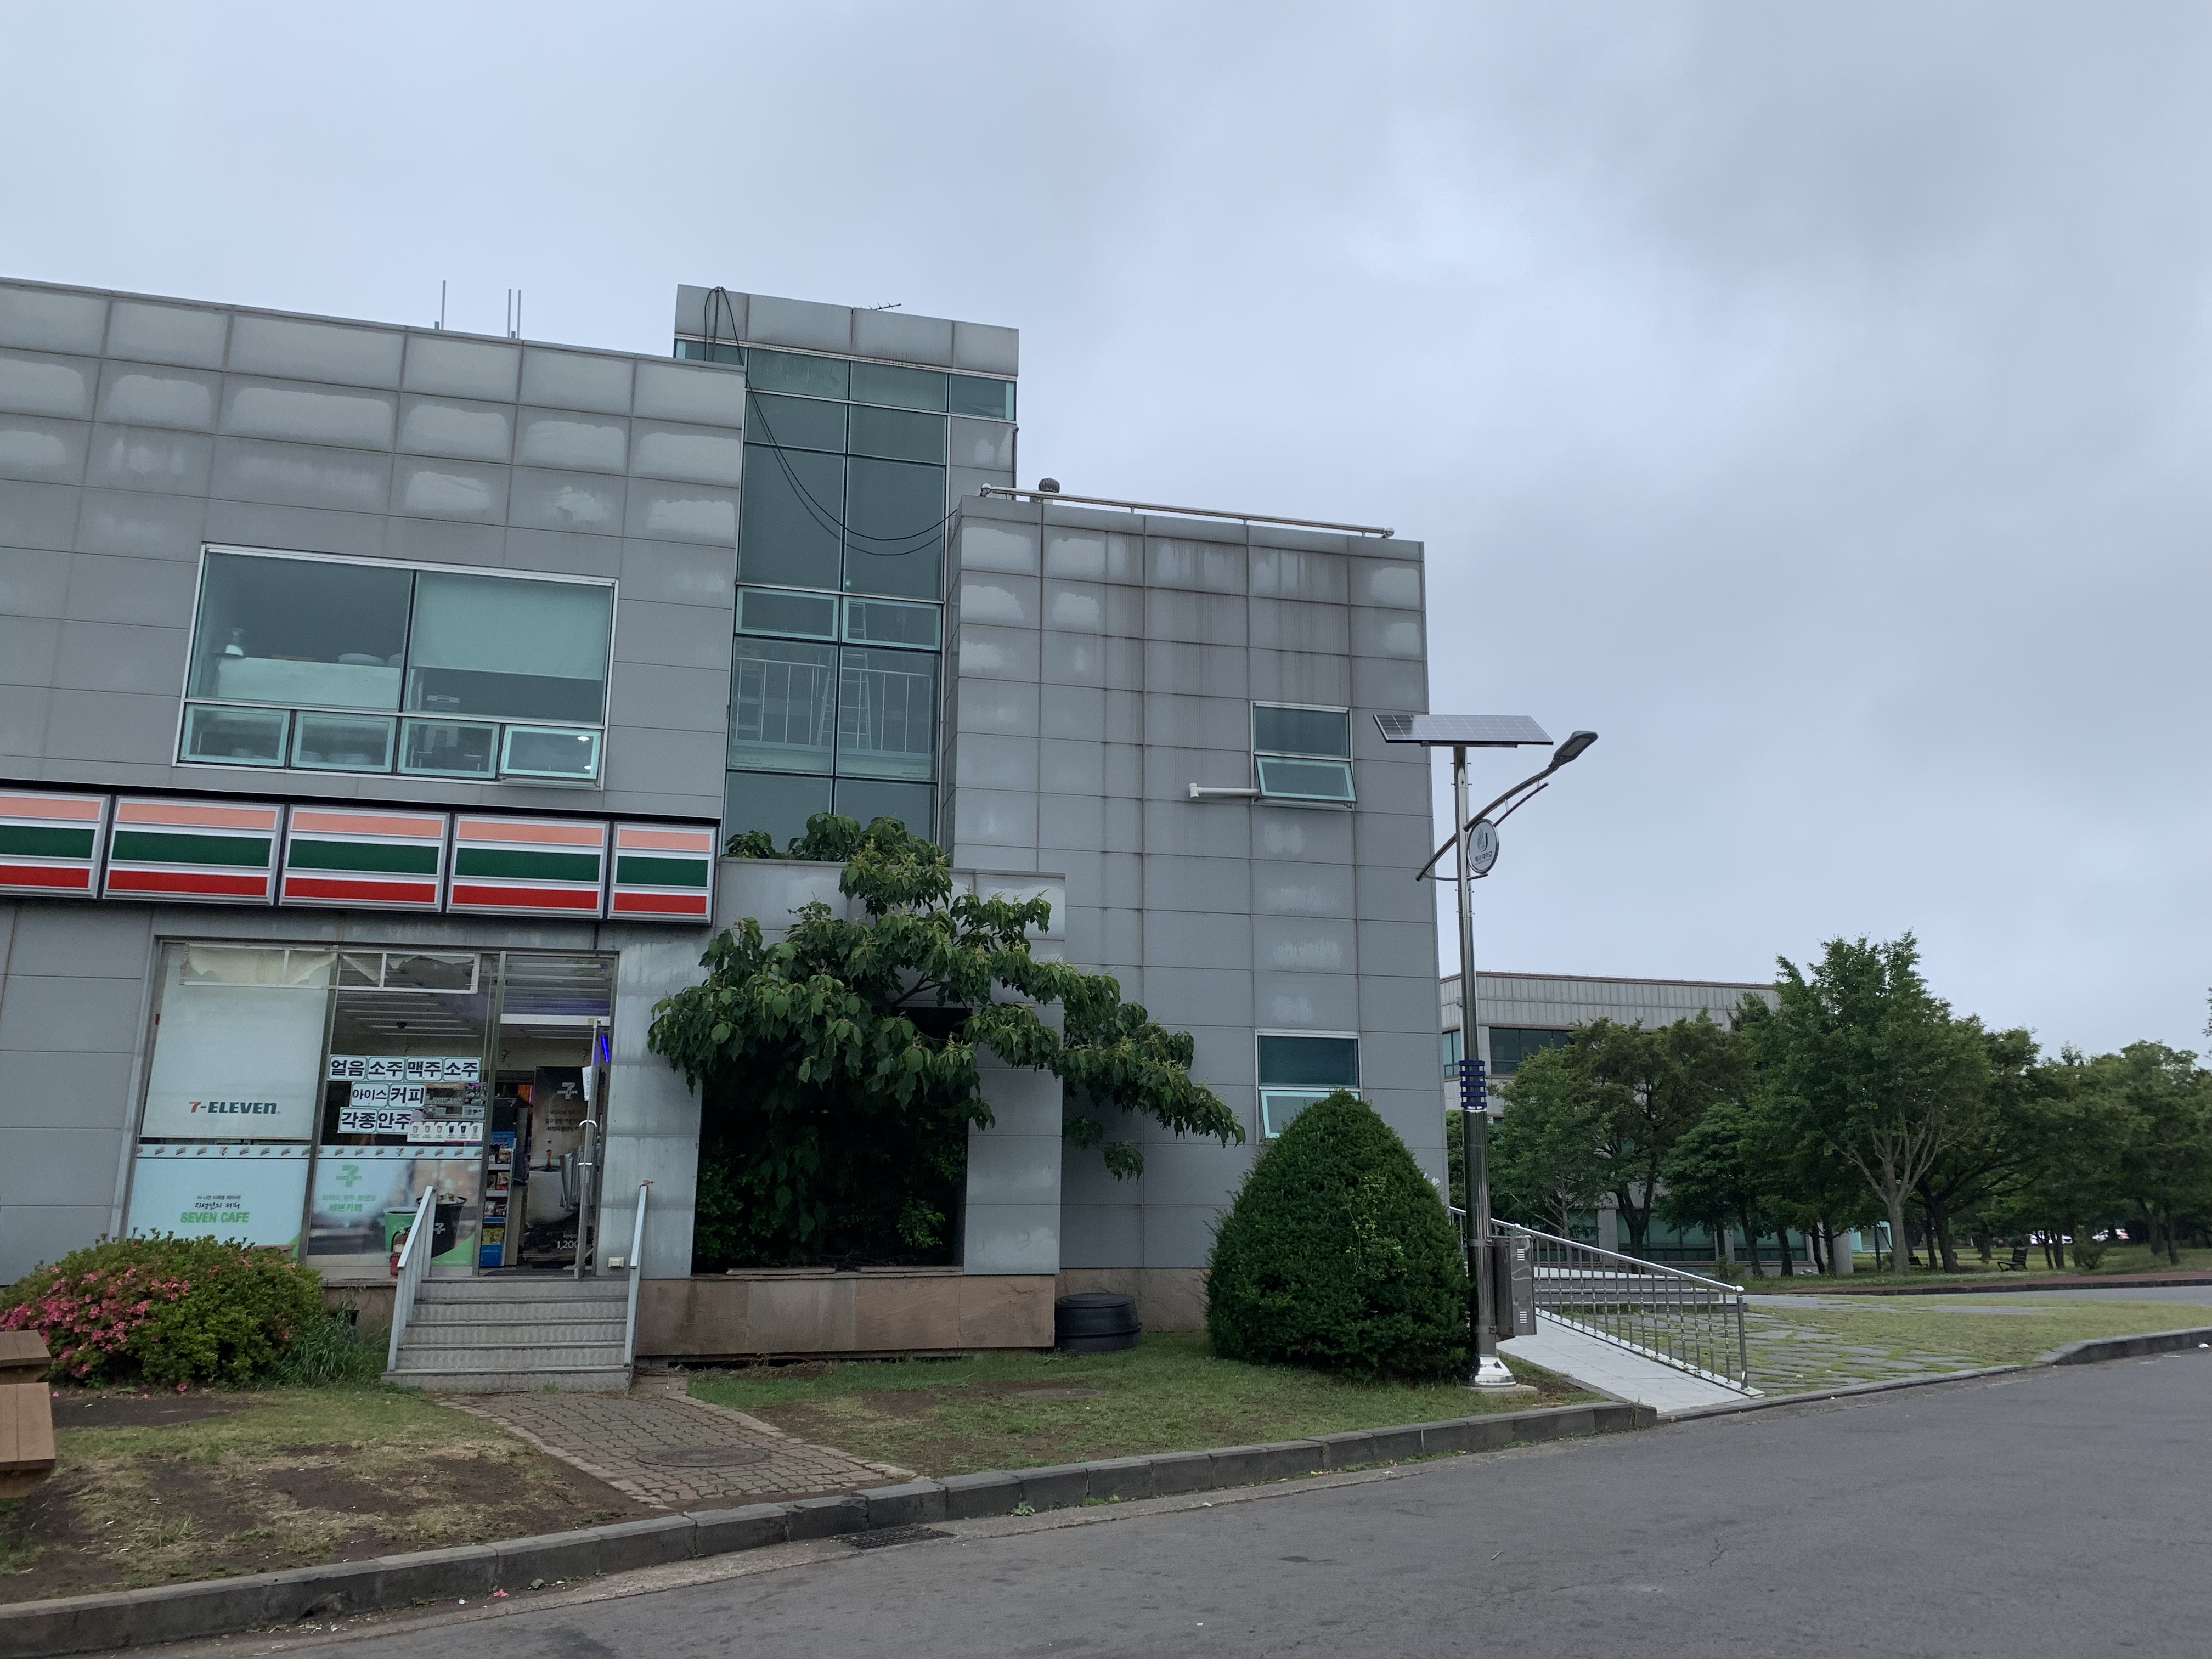Global House: (17, 247, 1475, 1422)
Second Library: (1447, 943, 1848, 1307), (1472, 953, 1777, 1103), (1597, 1182, 1839, 1298)
